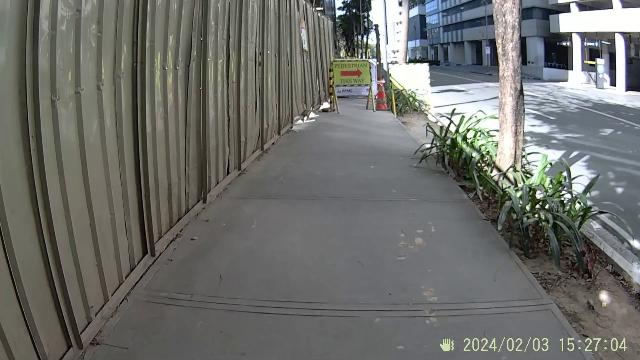street_sign: (329, 57, 381, 106)
tree: (488, 0, 538, 208)
